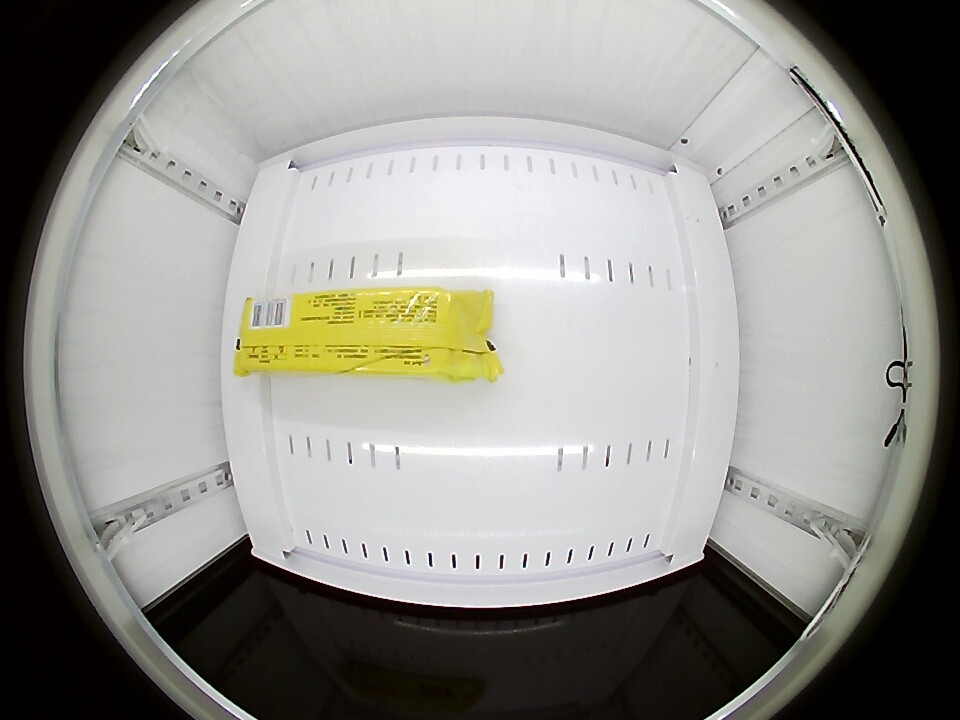3+2-2: (237, 288, 491, 380)
